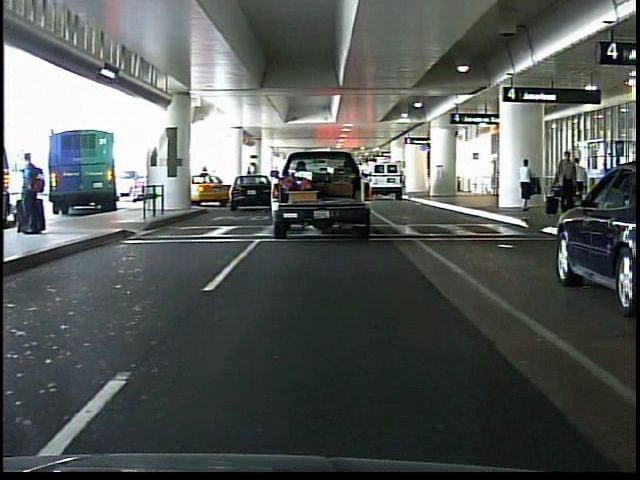person: (16, 142, 52, 239), (555, 147, 583, 212), (566, 155, 590, 221), (515, 155, 537, 213)
